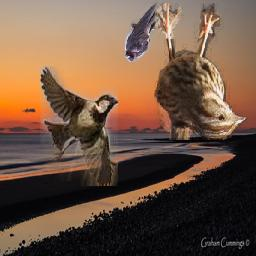Sparrow: (154, 4, 248, 141), (40, 66, 118, 186)
Swallow: (123, 2, 161, 62)
